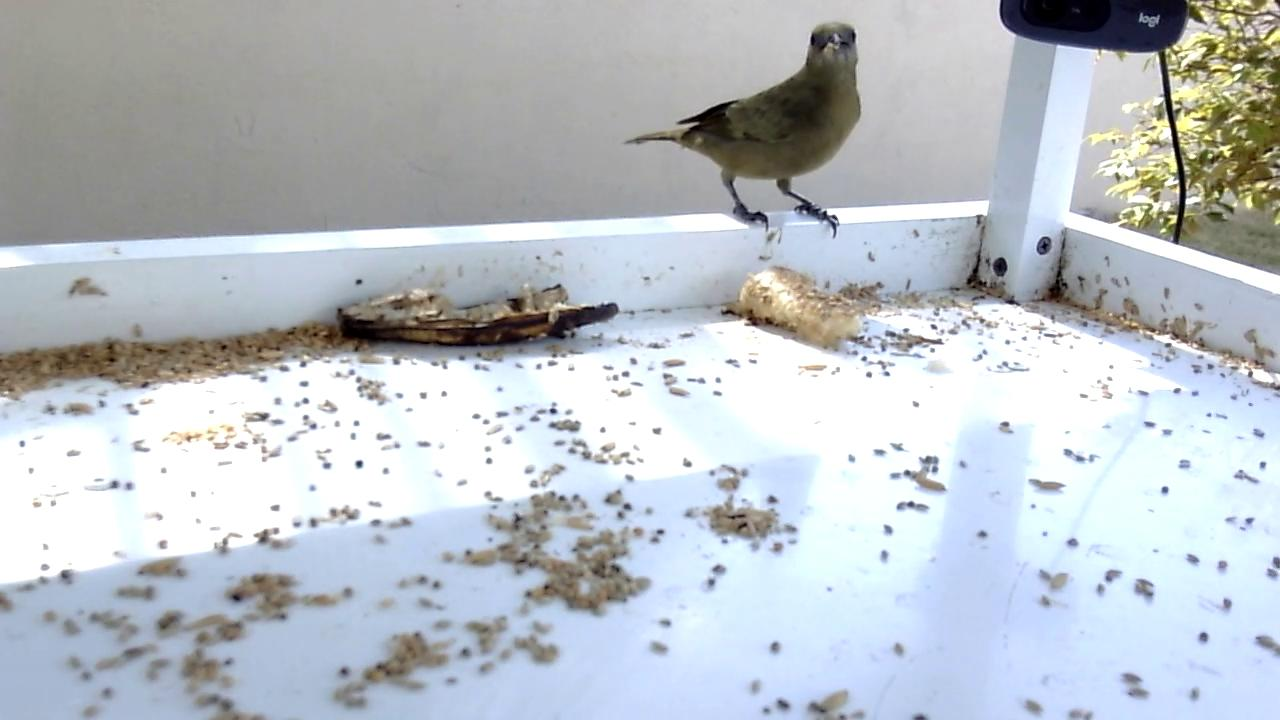sanhaco_do_coqueiro: (623, 24, 865, 239)
